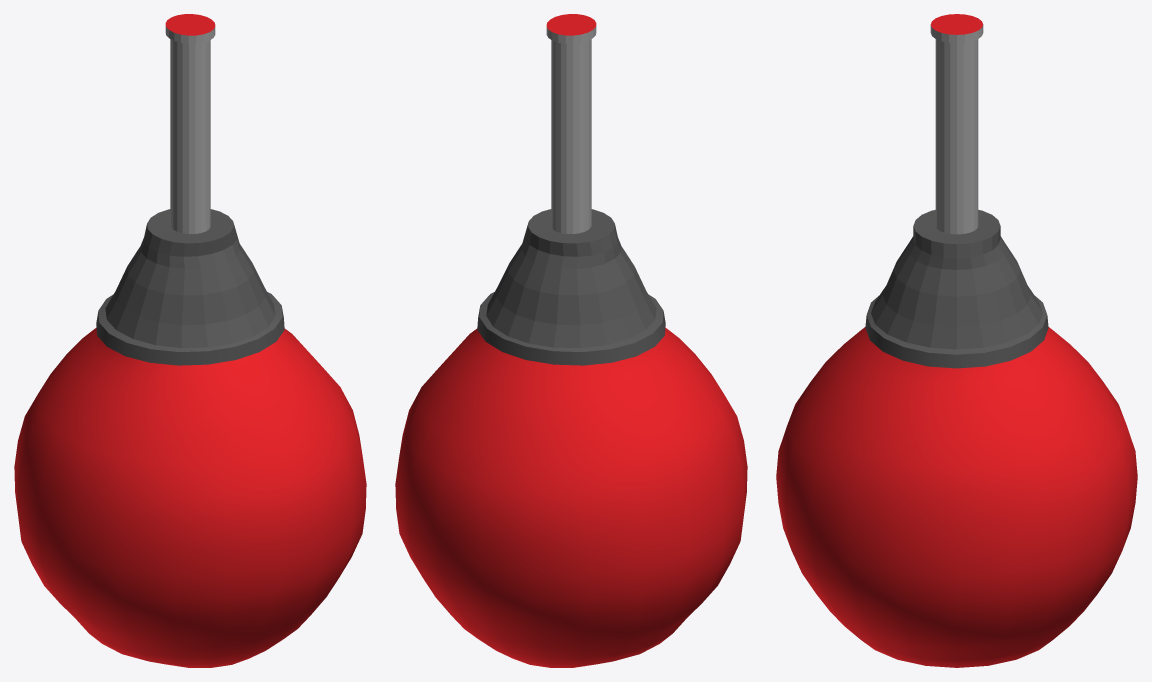
The model's file is top.fbx.
3 renders of one model, left to right at view 1: azimuth 30°, elevation 25°; view 2: azimuth 150°, elevation 25°; view 3: azimuth 270°, elevation 25°, orthographic.
Parts seen in each view (by area): view 1: pSphere1; view 2: pSphere1; view 3: pSphere1.
Part boxes in pixels (x1=…): pSphere1: x1=14, y1=14, x2=366, y2=667; pSphere1: x1=395, y1=14, x2=747, y2=667; pSphere1: x1=776, y1=14, x2=1137, y2=667.
Bounding box in the file's own units: 114 × 224 × 117.
